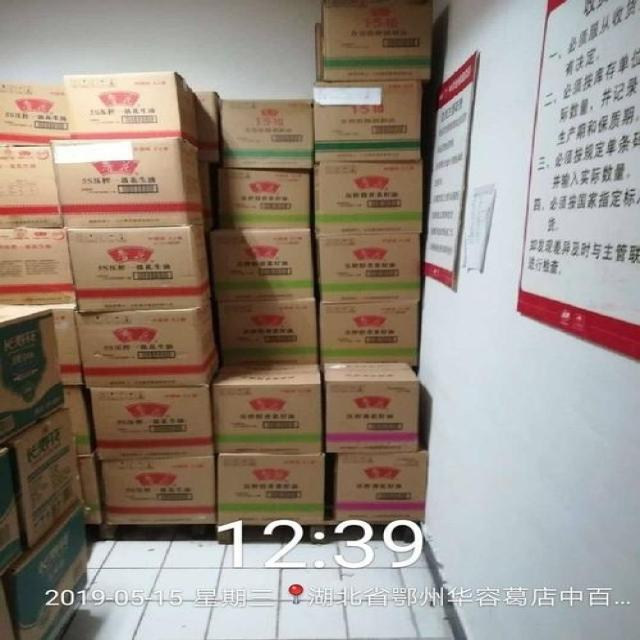box: (51, 136, 208, 228), (71, 292, 223, 387), (71, 219, 213, 311), (5, 502, 95, 639), (11, 406, 87, 548), (209, 359, 323, 453), (64, 71, 202, 147), (309, 80, 427, 162), (321, 0, 435, 83), (86, 384, 213, 457), (0, 306, 66, 439), (322, 359, 418, 450), (99, 454, 214, 523), (314, 162, 424, 233), (208, 228, 313, 302), (217, 452, 326, 523), (332, 451, 433, 524), (316, 231, 424, 299), (3, 301, 84, 384), (220, 99, 313, 171), (218, 296, 319, 361), (317, 298, 417, 362), (0, 228, 77, 303), (219, 169, 313, 229), (0, 144, 63, 231), (0, 83, 73, 146), (2, 434, 31, 576), (63, 383, 94, 455), (80, 452, 106, 522), (199, 91, 219, 160), (202, 159, 221, 229), (1, 572, 15, 637), (313, 21, 324, 83)
